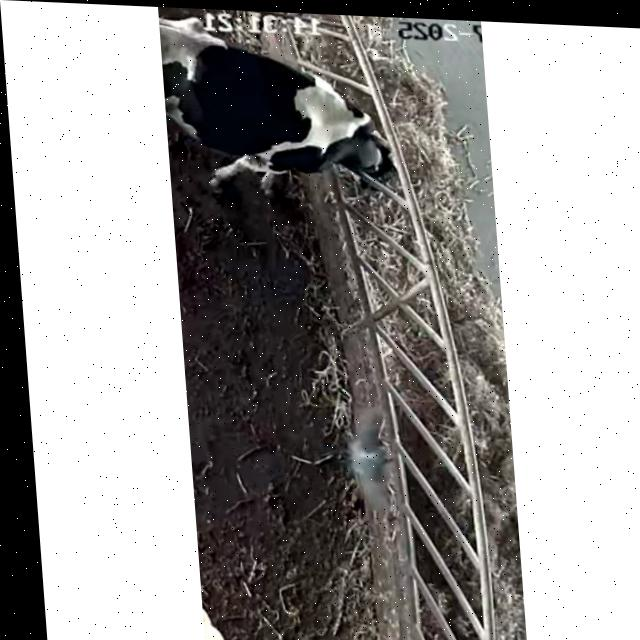eat: (222, 48, 472, 208)
